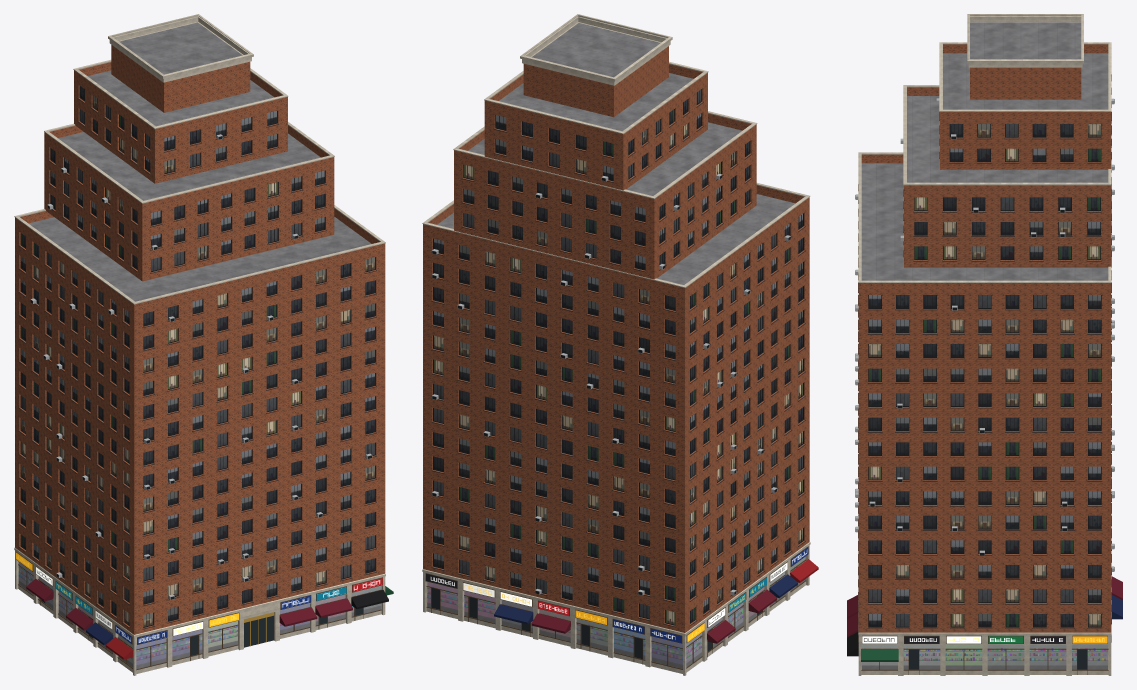
The model's file is hd10_art_deco_apartments.gltf.
3 views of the same model, side by side, from view 1: azimuth 30°, elevation 25°; view 2: azimuth 150°, elevation 25°; view 3: azimuth 270°, elevation 25° (orthographic). The views are drawn at different scales.
Visible parts, largest first — view 1: hd10_art_deco_apartments_LOD0; view 2: hd10_art_deco_apartments_LOD0; view 3: hd10_art_deco_apartments_LOD0.
Part boxes in pixels (left/top/right/bottom): hd10_art_deco_apartments_LOD0: left=14, top=14, right=393, bottom=675; hd10_art_deco_apartments_LOD0: left=422, top=14, right=818, bottom=675; hd10_art_deco_apartments_LOD0: left=847, top=14, right=1122, bottom=675.
Size of what is drawn, in the model's own units: 36.6 by 70.25 by 30.6.
Materials: 18 (7 with a texture image).
